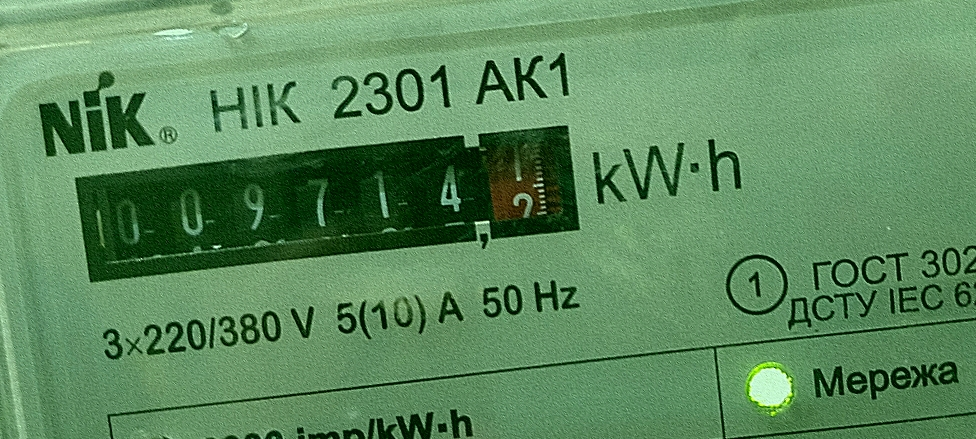0: (111, 195, 146, 252), (175, 185, 207, 241)
1: (368, 166, 397, 224), (507, 142, 527, 186)
2: (510, 189, 537, 222)
4: (433, 162, 467, 219)
7: (305, 176, 336, 232)
9: (237, 180, 271, 235)
screen: (59, 106, 600, 307)
